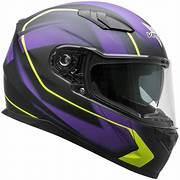Helmet: (4, 2, 177, 176)
